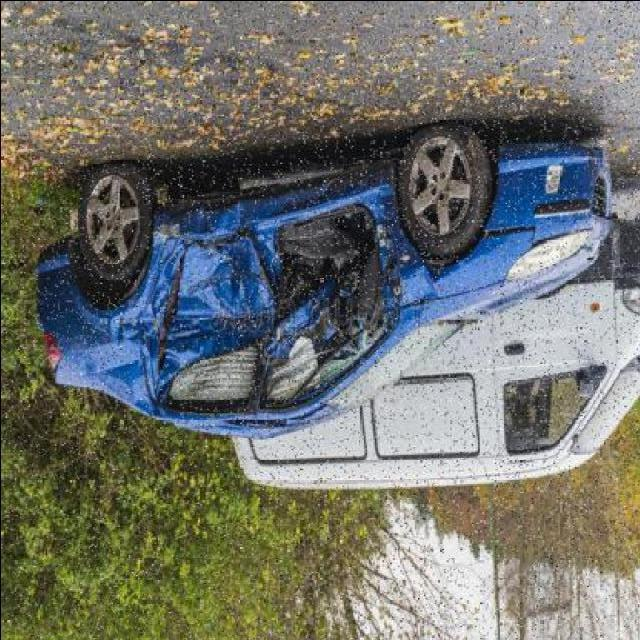RunningBoard-Dent: (230, 174, 389, 217), (143, 186, 259, 243)
doorouter-dent: (143, 227, 276, 423)
fender-dent: (397, 177, 500, 309)
